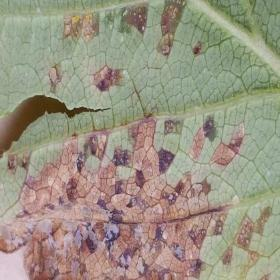Angular Leafspot: (0, 0, 275, 279)
